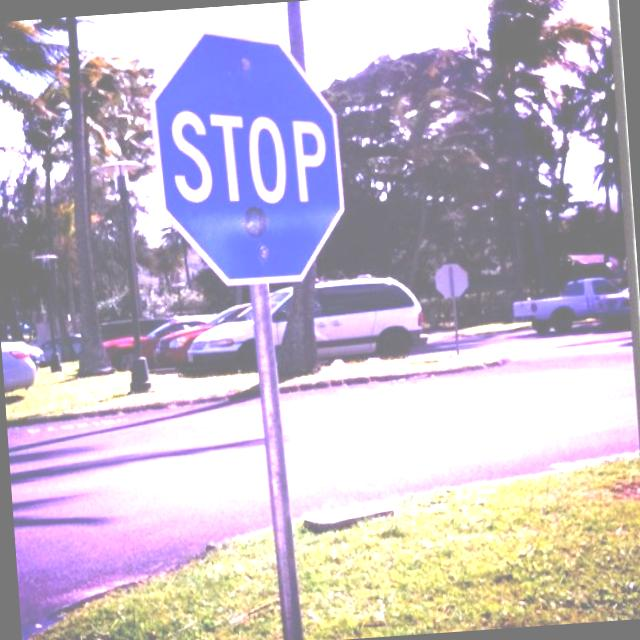Vehicle: (182, 272, 433, 375), (509, 275, 635, 338), (102, 316, 210, 374), (150, 305, 254, 365), (0, 315, 36, 405), (24, 340, 46, 366)
